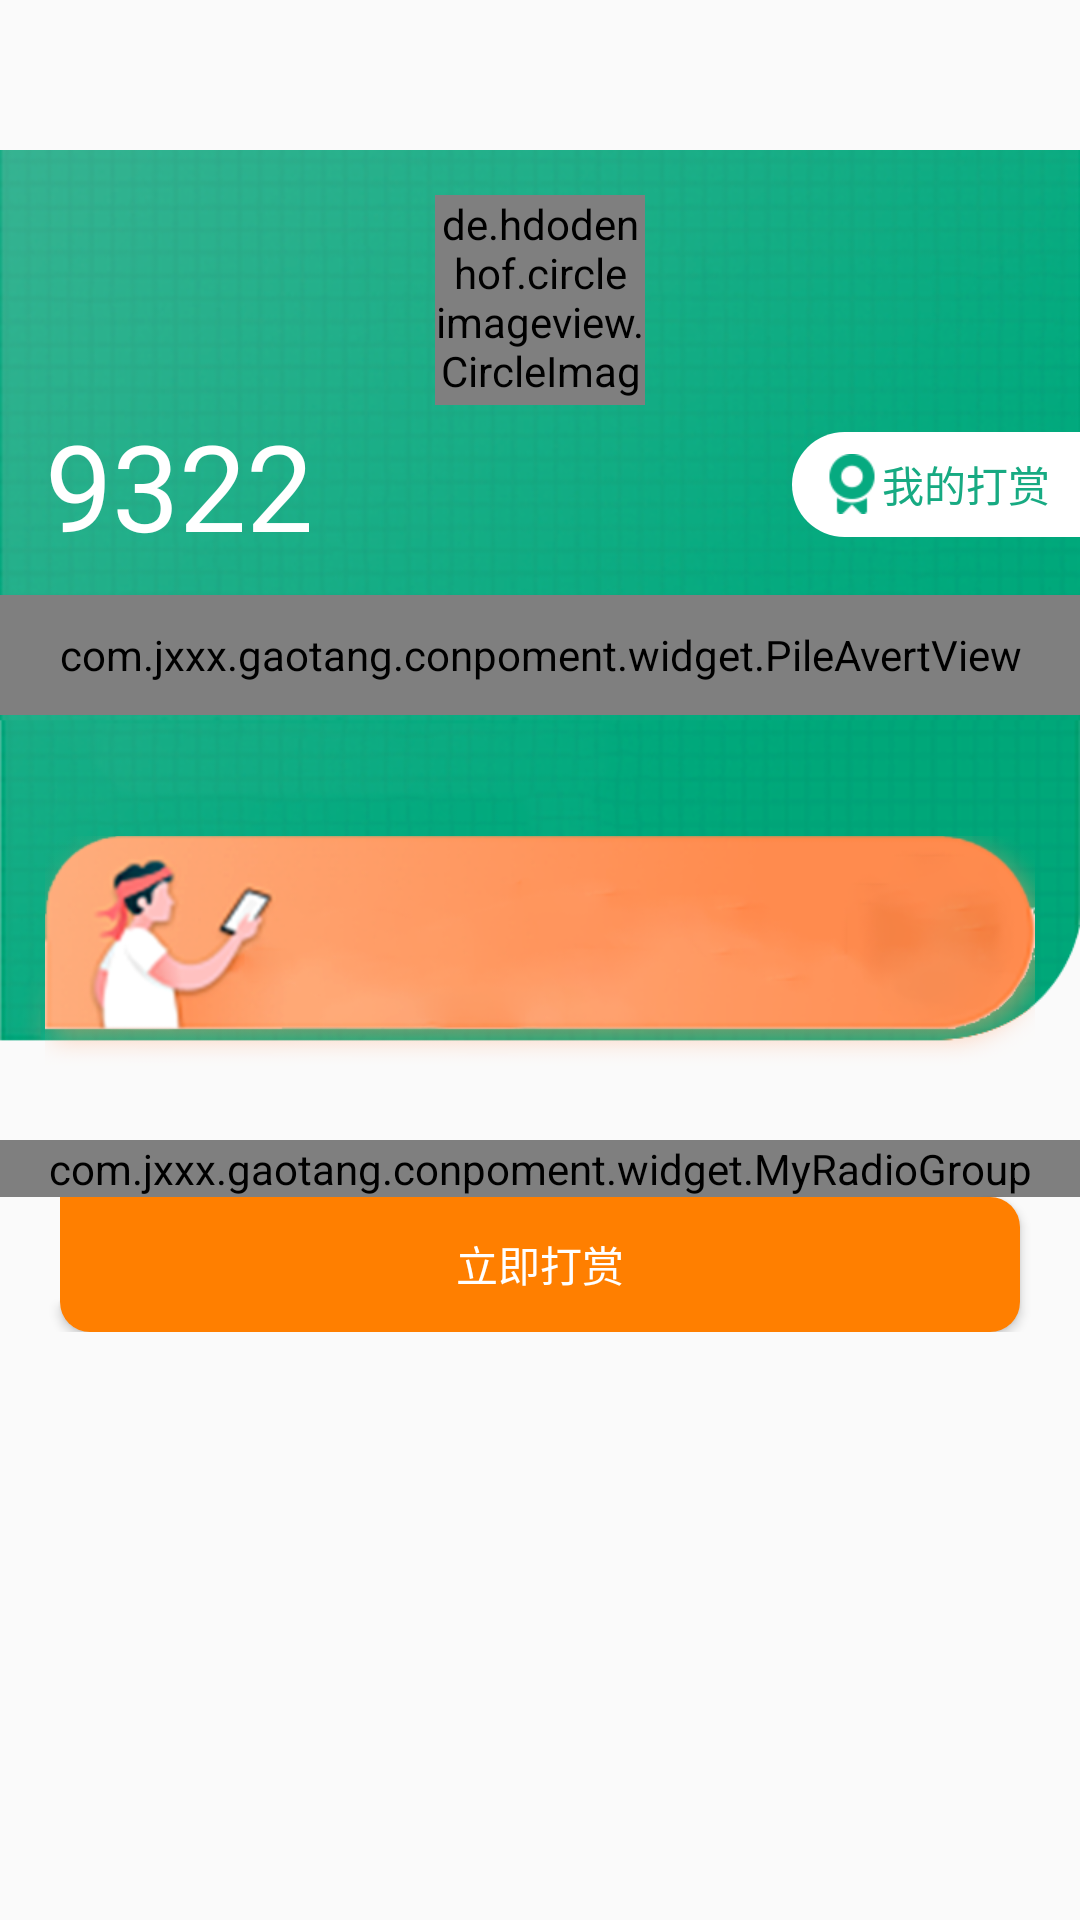

Icon click points for this 1080 × 1920 phone screenshot, format (x,y):
huizhang: (852,484)
